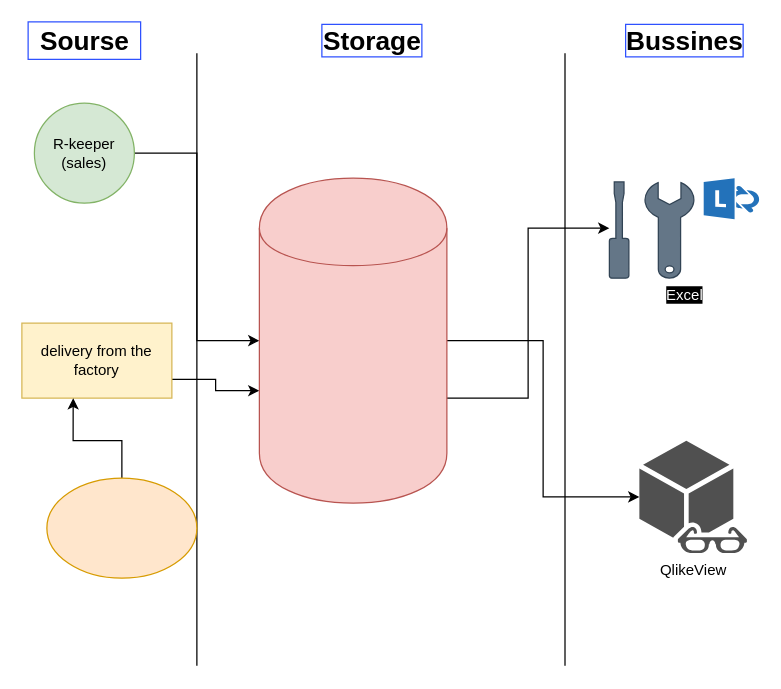
Image size: 781x689. Some labels were removed from this diagram. Here are the shapes that lost their labels. From the top down, the centre of each, then its label:
At point (352, 340): "1С Общепит".
At point (121, 527): "1С ОБД".
